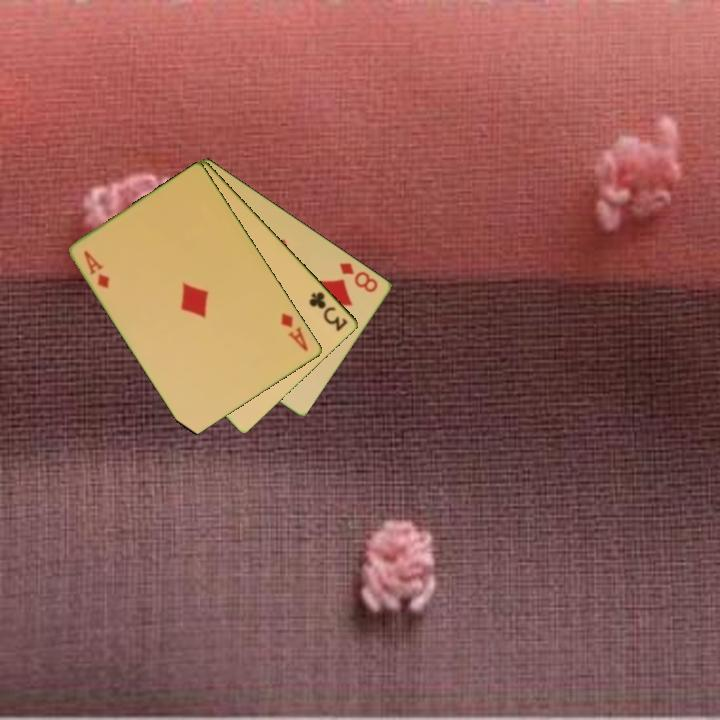3c: (306, 288, 351, 334)
8d: (336, 259, 381, 295)
Ad: (278, 309, 311, 354), (80, 247, 113, 291)
